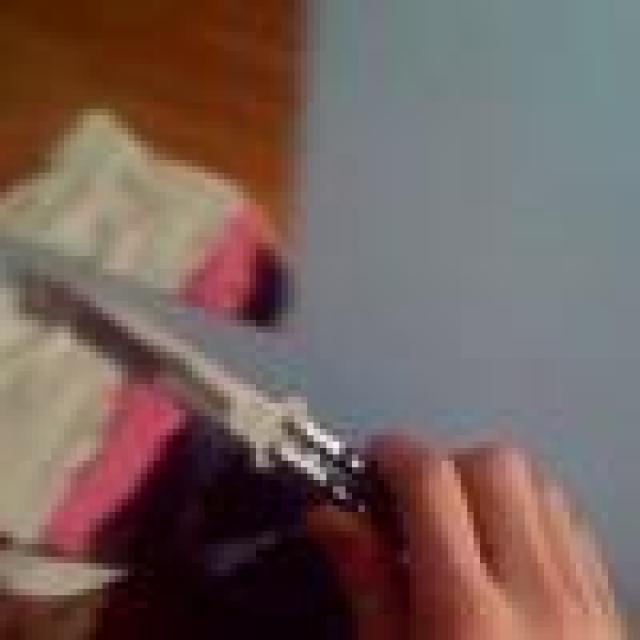knife: (12, 255, 410, 550)
